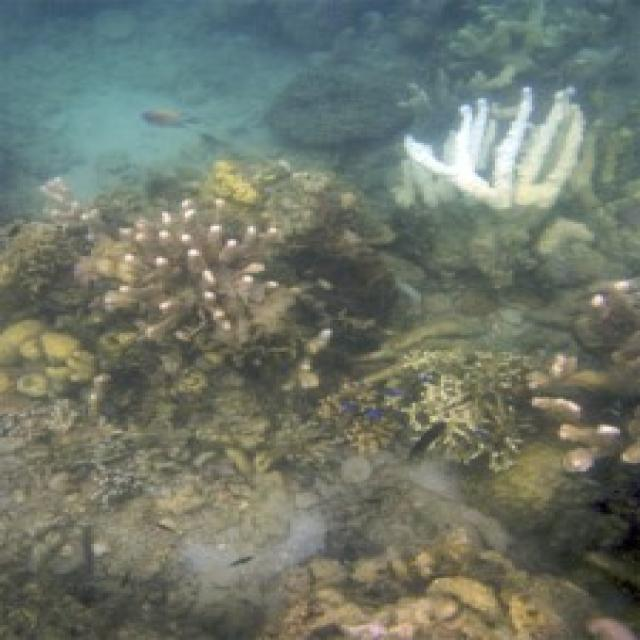Bleached: (399, 88, 584, 208)
